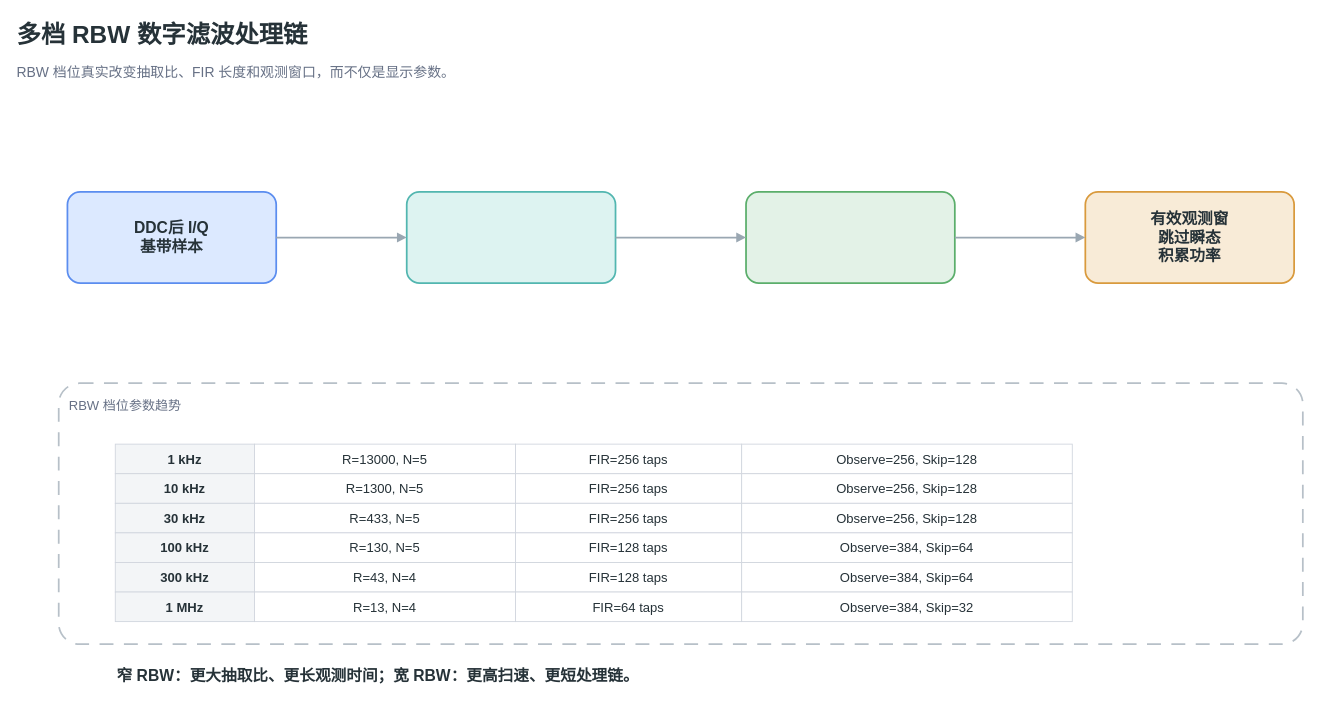
The diagram is 1318 pixels wide and 706 high, and some of its shapes have lost their labels. Here are the shapes that lost their labels. From the top down, the centre of each, then its label:
the point at 510,237: CIC抽取 R/N按RBW配置 降低数据率
the point at 850,237: 补偿FIR RBW低通 修正通带
